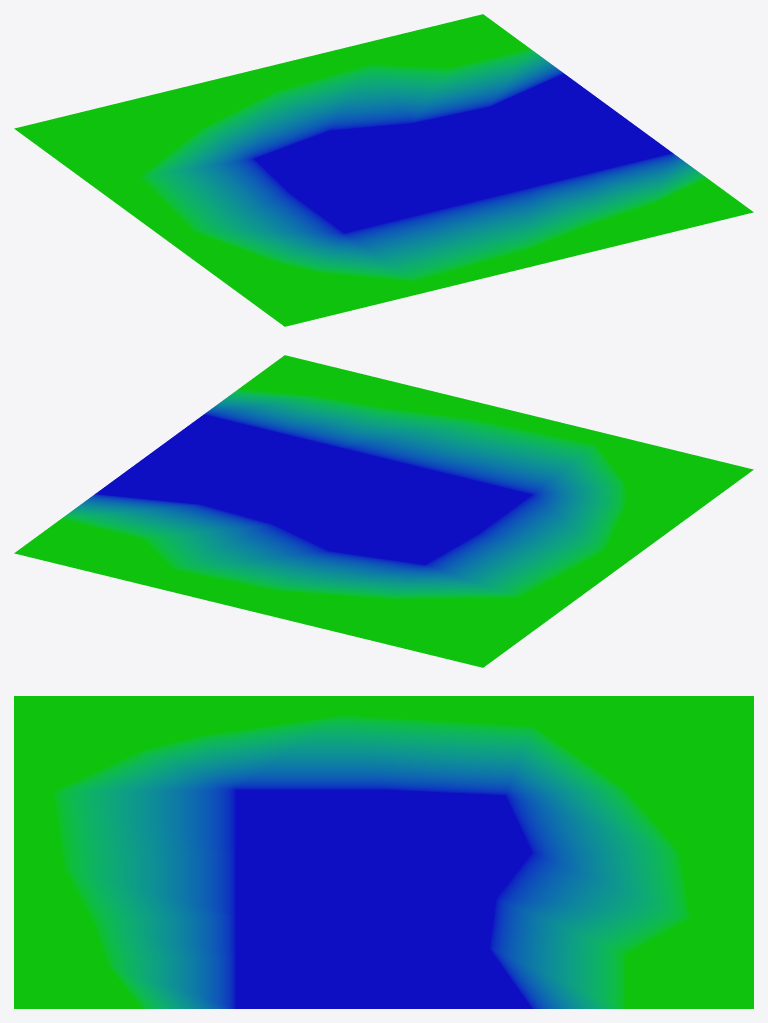
File: SM_FloorCap.fbx
3 renders of one model, top to bottom at view 1: azimuth 30°, elevation 25°; view 2: azimuth 150°, elevation 25°; view 3: azimuth 270°, elevation 25°, orthographic. The views are drawn at different scales.
Parts seen in each view (by area): view 1: SM_FloorCap; view 2: SM_FloorCap; view 3: SM_FloorCap.
Boxes of the visible parts, <box> form: SM_FloorCap: <box>14,14,753,326</box>; SM_FloorCap: <box>14,355,753,667</box>; SM_FloorCap: <box>14,696,753,1008</box>.
Bounding box in the file's own units: 500 × 1.11e-13 × 500.
